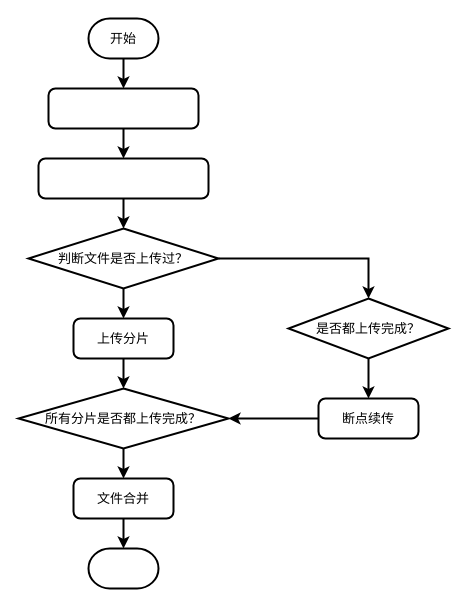
Image size: 466x606. Some labels were removed from this diagram. Each missing label, with the centre of its shape:
生成文件分片以及分片信息: pixel 123 178
生成文件唯一的key: pixel 123 108
结束: pixel 123 568
